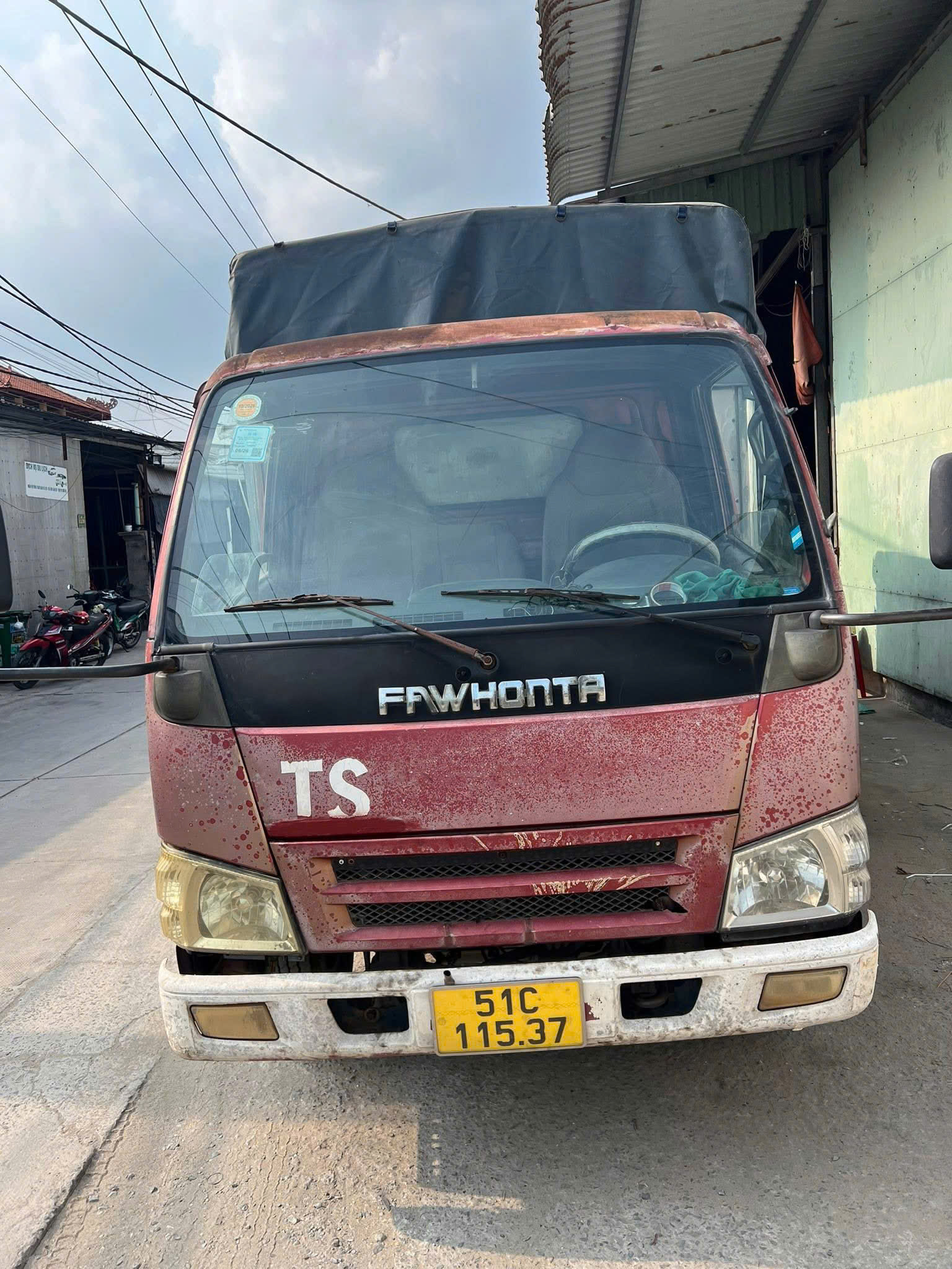Bien-so: (428, 973, 588, 1067)
